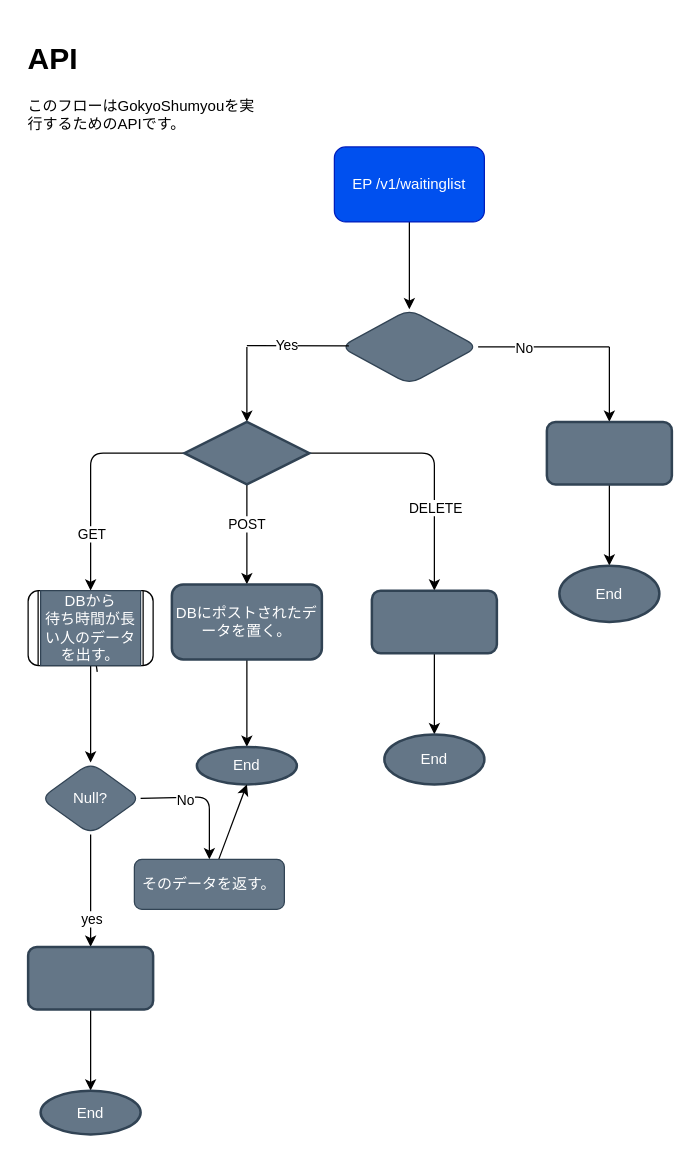
Some shapes in this 694 by 1156 pixel diagram are drawn without their labels. Here are the shapes that lost their labels. From the top down, the centre of each, then its label:
the point at 408,346: API認証OK?
the point at 246,452: Methodは？
the point at 608,452: 403を返す
the point at 434,621: DBの該当する データを削除。
the point at 90,977: APP Code 1001 Waitinglist is null yet.
